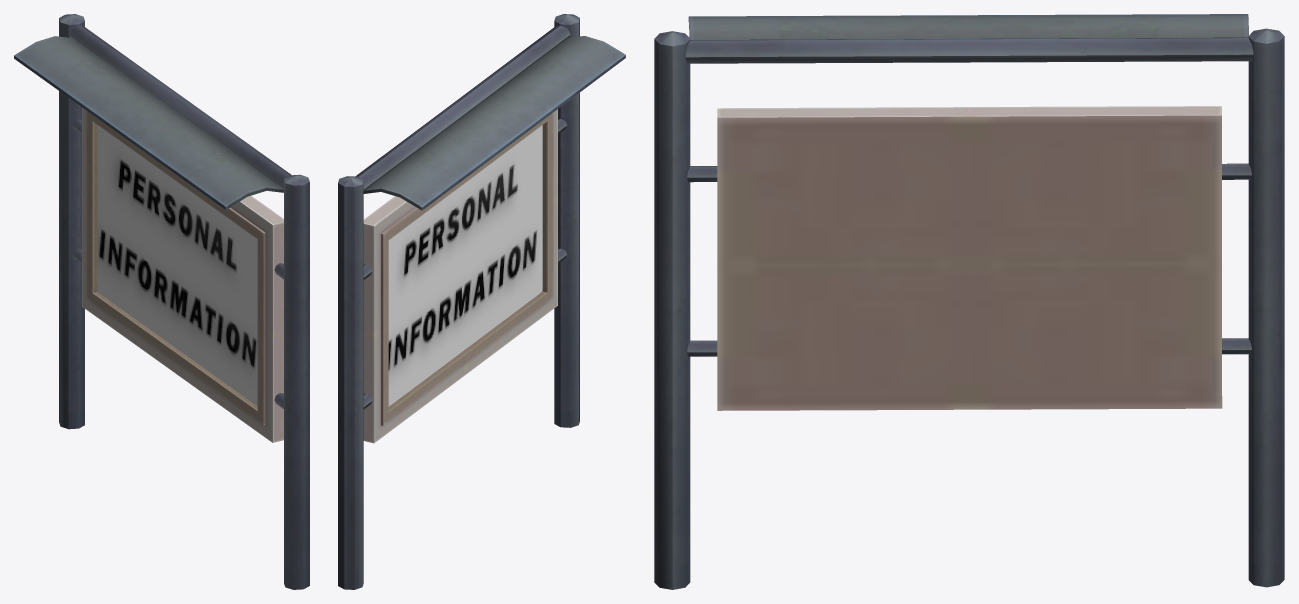
File: DeskInfo.fbx
3 views of the same model, side by side, from view 1: azimuth 30°, elevation 25°; view 2: azimuth 150°, elevation 25°; view 3: azimuth 270°, elevation 25° (orthographic). The views are drawn at different scales.
Visible parts, largest first — view 1: scene_dance_stage_16_map01; view 2: scene_dance_stage_16_map01; view 3: scene_dance_stage_16_map01.
Part boxes in pixels (x1,y1,x2,y2): scene_dance_stage_16_map01: (14, 14, 309, 589); scene_dance_stage_16_map01: (338, 14, 625, 589); scene_dance_stage_16_map01: (654, 14, 1284, 589).
Size of the model in its own units: 0.4145 by 2.02 by 2.1.
Materials: 1 (1 with a texture image).
